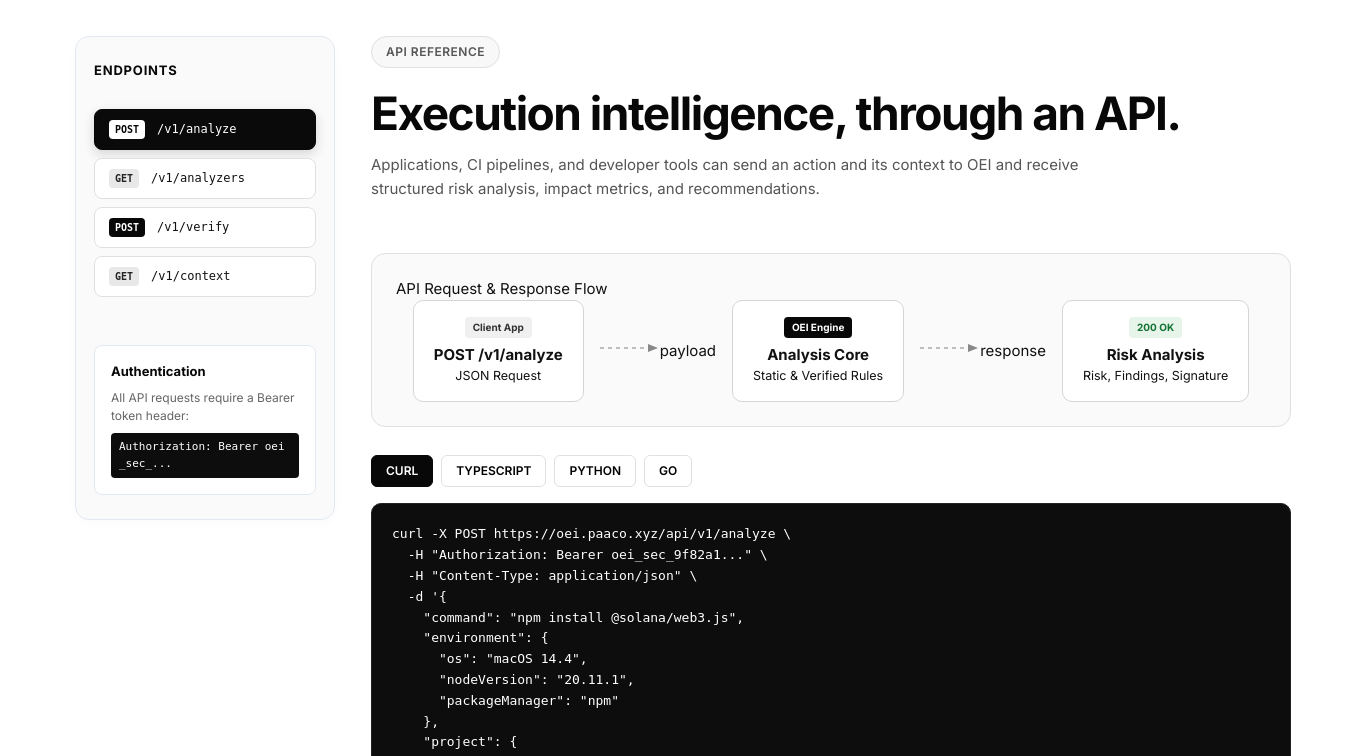
Test: ApiPage › renders the PYTHON sample when its tab is selected
Click the button "PYTHON": coordinates (595, 471) [554, 455, 636, 487]
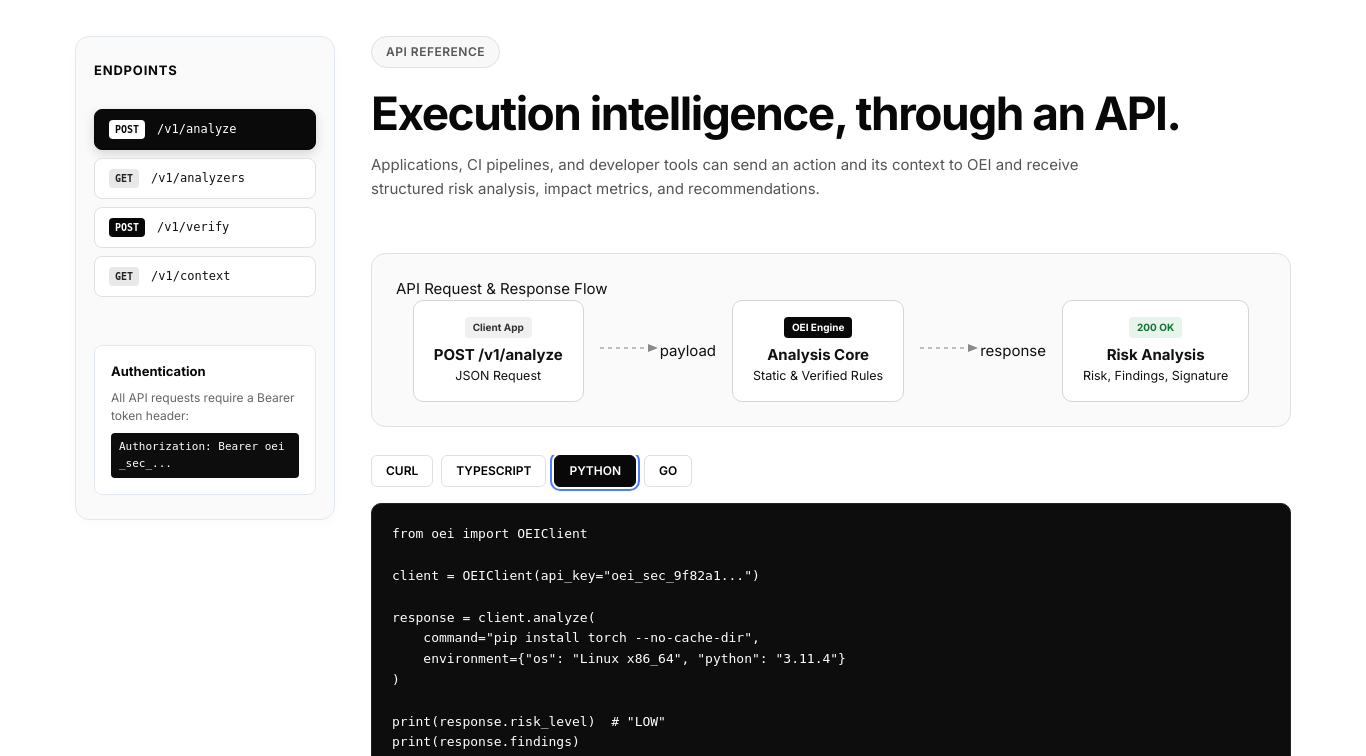
Now the text "from oei import OEIClient" is shown, box [392, 526, 846, 749]
